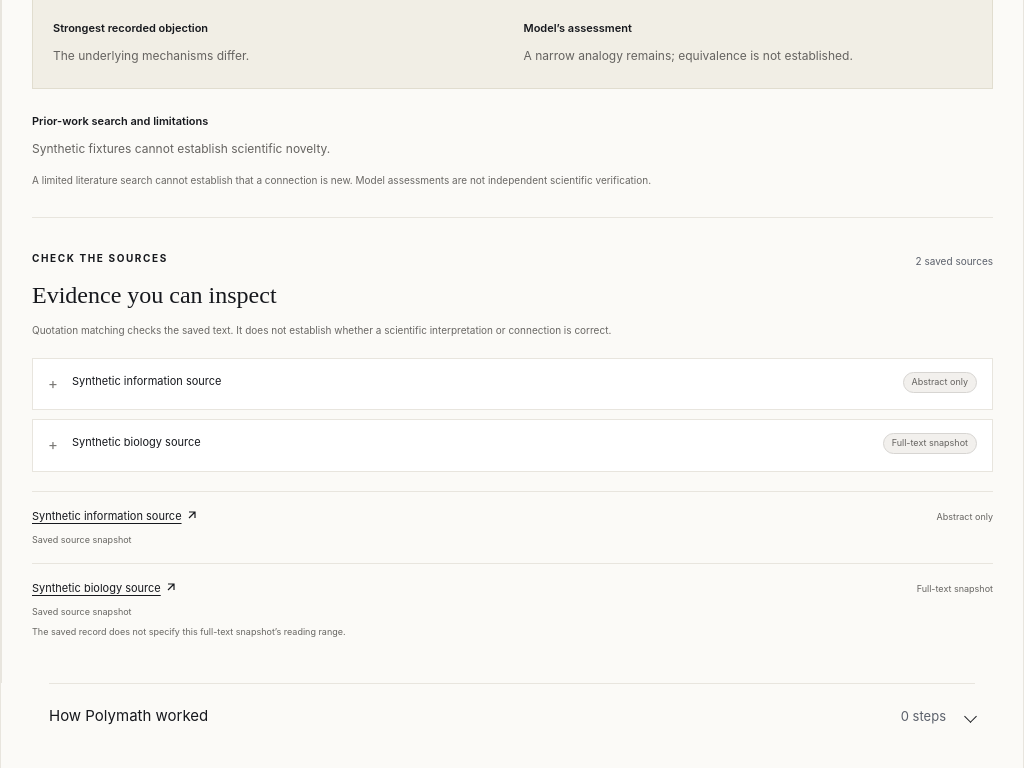
it: recorded research view › renders a candidate mapping and limitations with expandable source quotations
(page scrolled)
Expected: the text "The underlying mechanisms differ." is shown, [53,48,249,63]
Expected: the text "Synthetic fixtures cannot establish scientific novelty." is shown, [32,141,330,156]
Step 1. Click the heading "Synthetic information source Abstract only" → (147, 381), box [72,372,977,392]
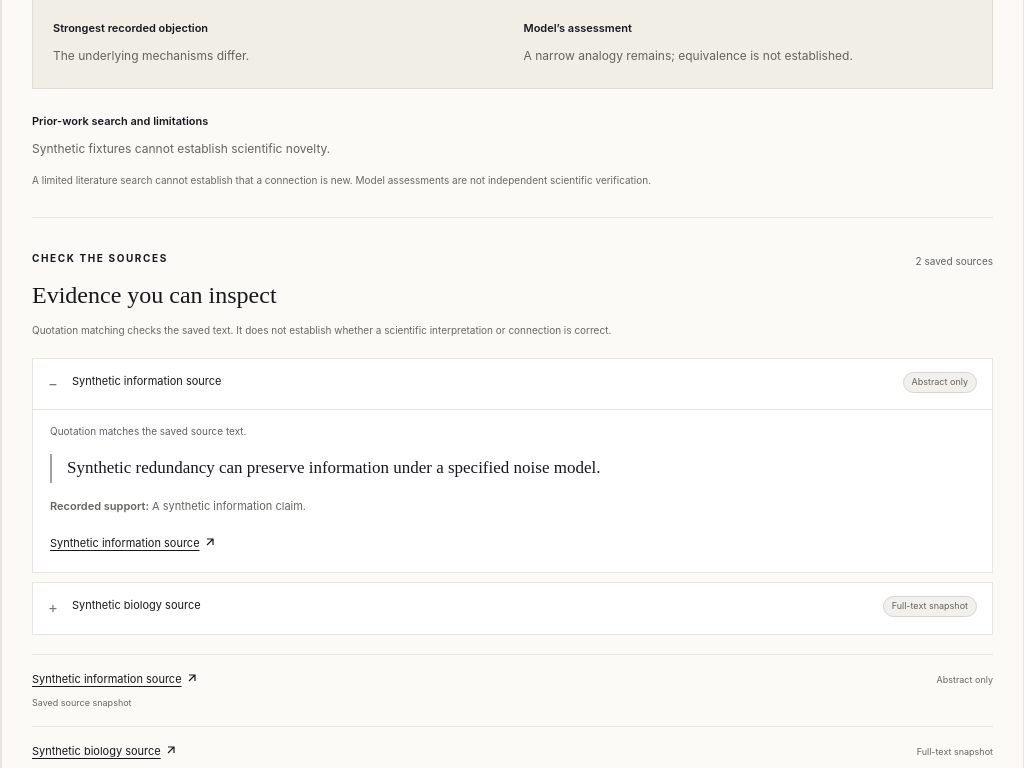
Expected: the text "Abstract only" is shown 2 times, [902,372,977,392]; [936,673,993,688]
Now the text "Synthetic redundancy can preserve information under a specified noise model." is shown, box [50,454,975,483]
